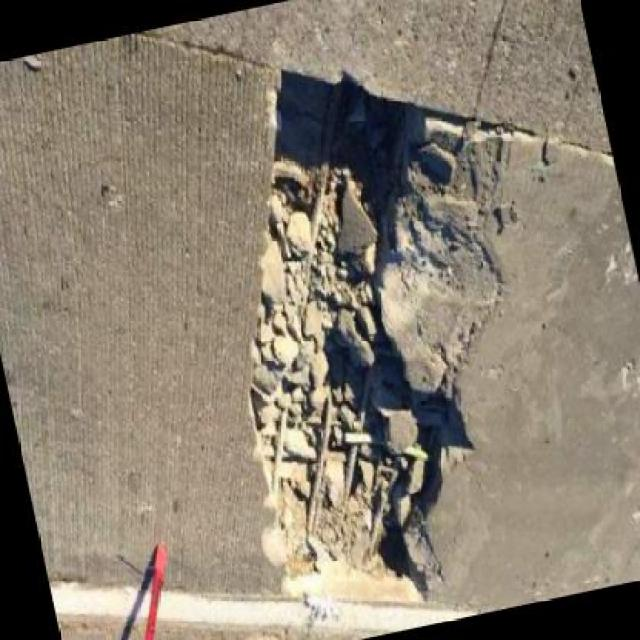pothole1: (167, 32, 538, 639)
